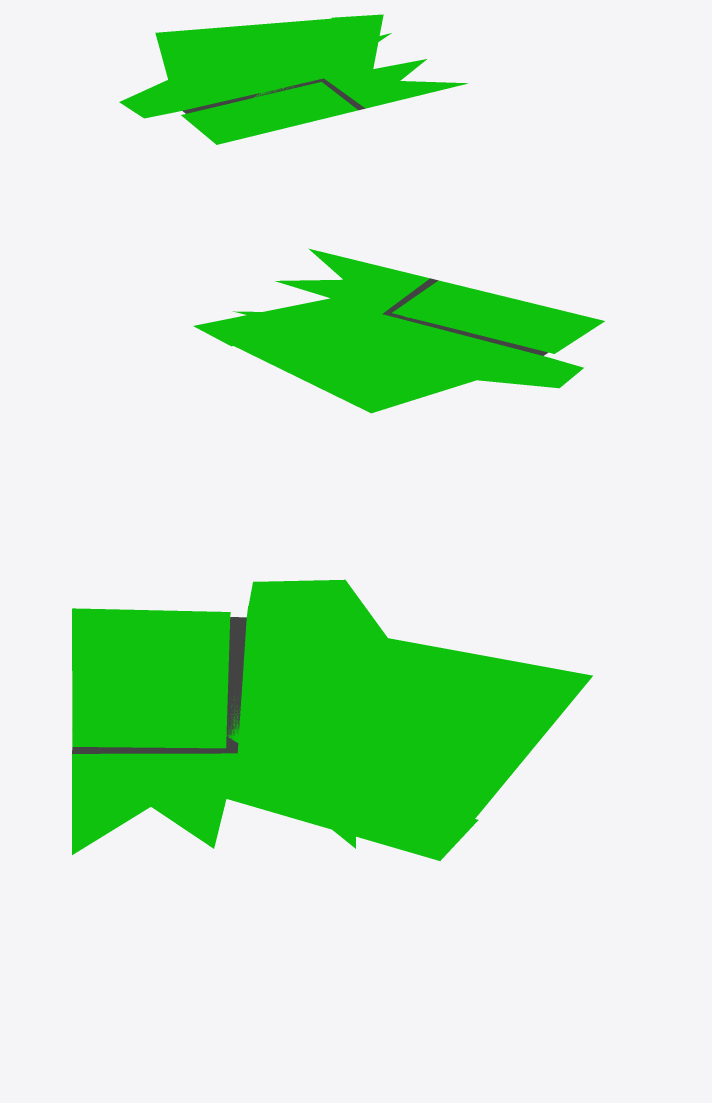
3 renders of one model, top to bottom at view 1: azimuth 30°, elevation 25°; view 2: azimuth 150°, elevation 25°; view 3: azimuth 270°, elevation 25°, orthographic. The views are drawn at different scales.
Bounding box in the file's own units: 300 × 0 × 120.
